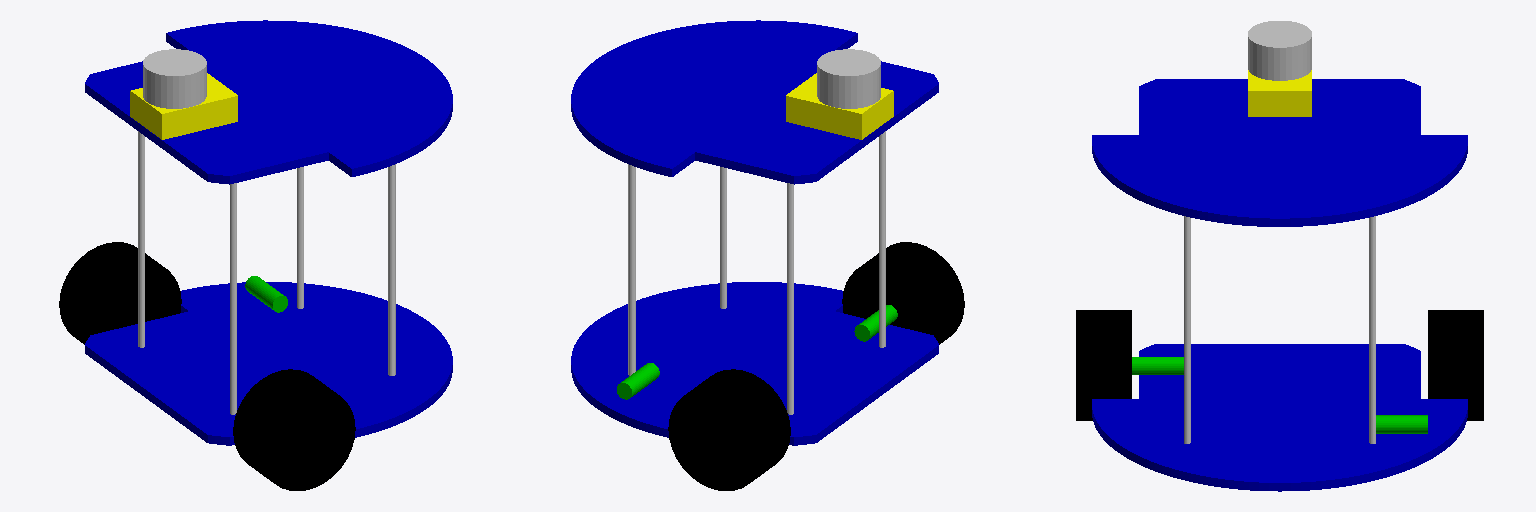
The robot description file, URDF, robot "myrobot":
<?xml version="1.0"?>
<robot name="myrobot">
  <material name="white">
    <color rgba="0.87 0.90 0.87 1.0"/>
  </material>
  <material name="black">
    <color rgba="0.0 0.0 0.0 1.0"/>
  </material>
  <material name="green">
    <color rgba="0.22 0.32 0.14 1.0"/>
  </material>
  <material name="Green">
    <color rgba="0.0 0.8 0.0 1.0"/>
  </material>
  <material name="OffWhite">
    <color rgba="0.8 0.8 0.8 1"/>
  </material>
  <material name="yellow">
     <color rgba="1 1 0 1"/>
  </material>

  <link name="base_link">
     <visual>
       <geometry>
          <!--<cylinder length="0.0042" radius="0.2" />-->
          <mesh filename="package://myrobot_gazebo/meshes/ROS.stl" scale="0.001016 0.001016 0.001016"/>
       </geometry>
       <material name="blue">
         <color rgba="0 0 0.8 1" />
       </material>
       <origin rpy="0 0 -1.57075" xyz="0 0 0 " />
     </visual>
  </link>
<!--This is added to the last 4 supports-->
  <link name="right_wheel">
     <visual>
       <geometry>
          <cylinder length="0.06" radius="0.06" />
       </geometry>
       <!--<origin rpy="1.57075 0 0" />-->
       <material name="black"/>
     </visual>
  </link>

   <joint name="right_wheel_joint" type="continuous">
      <parent link="base_link" />
      <child  link="right_wheel" />
       <axis xyz="0 0 1" />
      <origin rpy="0 1.57075 1.57075" xyz="-0.075 -0.19 0.02" />
      <!--<origin rpy="0 1.57057 0" xyz="0.19 0.075 0.02" />-->
   </joint>

   <link name="right_wheel_axis">
      <visual>
        <geometry>
           <cylinder length="0.06" radius="0.01" />
        </geometry>
        <material name="Green" />
      </visual>
   </link>

   <joint name="right_wheel_axis_joint" type="fixed">
      <parent link="base_link" />
      <child  link="right_wheel_axis" />
      <origin rpy="0 1.57075 1.57075" xyz="-0.075 -0.13 0.02" />
      <!--<origin rpy="0 1.57057 0" xyz="0.13 0.075 0.02" />-->
   </joint>

  <link name="left_wheel">
     <visual>
       <geometry>
          <cylinder length="0.06" radius="0.06" />
       </geometry>
        <!--<origin rpy="0 -1.57057 0" xyz="-0.19 0.075 0" />-->
       <material name="black" />
     </visual>
  </link>

  <joint name="left_wheel_joint" type="continuous">
      <parent link="base_link" />
      <child  link="left_wheel" />
      <axis xyz="0 0 1" />
      <!--<origin rpy="0 -1.57057 0" xyz="-0.19 0.075 0.02" />-->
      <origin rpy="0 -1.57075 1.57075" xyz="-0.075 0.19 0.02" />
  </joint>

  <link name="left_wheel_axis">
      <visual>
        <geometry>
           <cylinder length="0.06" radius="0.01" />
        </geometry>
        <material name="Green" />
      </visual>
  </link>

  <joint name="left_wheel_axis_joint" type="fixed">
      <parent link="base_link" />
      <child  link="left_wheel_axis" />
      <!--<origin rpy="0 -1.57057 0" xyz="-0.13 0.075 0.02" />-->
      <origin rpy="0 -1.57075 1.57075" xyz="0.075 0.13 0.02" />
  </joint>
<!--End-->

<!--This is added to the last 4 supports-->

  <link name="left_brace_front">
    <visual>
       <geometry>
          <cylinder length="0.32" radius="0.004" />
       </geometry>
       <material name="green">
          <color rgba=".86 .86 .86 1" />
       </material>
    </visual>
  </link>

  <joint name="left_brace_front_joint" type="fixed">
     <parent link="base_link" />
     <child  link="left_brace_front"/>
     <origin xyz="0.1 0.1 0.16" />
  </joint>

  <link name="left_brace_back">
    <visual>
       <geometry>
          <cylinder length="0.32" radius="0.004" />
       </geometry>
       <material name="green">
          <color rgba="0.86 0.86 0.86 1" />
       </material>
    </visual>
  </link>

  <joint name="left_brace_back_joint" type="fixed">
     <parent link="base_link" />
     <child  link="left_brace_back"/>
     <origin xyz="0.1 -0.1 0.16" />
  </joint>

  <link name="right_brace_front">
    <visual>
       <geometry>
          <cylinder length="0.32" radius="0.004" />
       </geometry>
       <material name="green">
          <color rgba=".86 .86 .86 1" />
       </material>
    </visual>
  </link>

  <joint name="right_brace_front_joint" type="fixed">
     <parent link="base_link" />
     <child  link="right_brace_front"/>
     <origin xyz="-0.1 0.1 0.16" />
  </joint>

  <link name="right_brace_back">
    <visual>
       <geometry>
          <cylinder length="0.32" radius="0.004" />
       </geometry>
       <material name="green">
          <color rgba=".86 .86 .86 1" />
       </material>
    </visual>
  </link>

  <joint name="right_brace_back_joint" type="fixed">
     <parent link="base_link" />
     <child  link="right_brace_back"/>
     <origin xyz="-0.1 -0.1 0.16" />
  </joint>
<!--End-->

<!--This is the rplidar-->
    <link name="rplidar">
       <visual>
         <geometry>
            <cylinder length="0.046" radius="0.035"/> 
         </geometry>
         <material name="OffWhite" />
       </visual>
    </link>

    <joint name="rplidar_joint" type="fixed">
       <parent link="rplidar_bottom" />
       <child  link="rplidar"/>
       <!--<origin xyz="0 0.012 0.033" />-->
       <origin rpy="0 0 1.57075" xyz="0 0.012 0.033" />
    </joint>

    <link name="rplidar_bottom">
      <visual>
         <geometry>
            <box size="0.07 0.096 0.033" />
         </geometry>
         <material name="yellow" />
      </visual>
    </link>
  
    <joint name="rplidar_bottom_joint" type="fixed">
       <parent link="base_link" />
       <child  link="rplidar_bottom" />
       <!--<origin  xyz="0 0.104 0.34" />-->
       <origin rpy="0 0 1.57075" xyz="-0.104 0 0.34" />
    </joint>
<!--End-->

</robot>

--- What the picture shows (computed from the rendered views, not written in the file) ---
3 views of the same robot in one strip: view 1: azimuth 30°, elevation 25°; view 2: azimuth 150°, elevation 25°; view 3: azimuth 270°, elevation 25° (orthographic).
Model myrobot with 11 links and 10 joints (2 continuous, 8 fixed), rooted at base_link, posed all joints at 0.
Links seen in each view (by area): view 1: base_link, right_wheel, left_wheel, rplidar_bottom, rplidar, left_brace_back, right_brace_back, right_brace_front, left_brace_front, left_wheel_axis; view 2: base_link, left_wheel, right_wheel, rplidar_bottom, rplidar, left_brace_front, right_brace_front, right_brace_back, left_brace_back, left_wheel_axis, right_wheel_axis; view 3: base_link, right_wheel, left_wheel, rplidar, rplidar_bottom, left_brace_front, left_brace_back, left_wheel_axis, right_wheel_axis.
Boxes of the visible links, x1=… form: base_link: x1=85, y1=20, x2=452, y2=445; right_wheel: x1=233, y1=369, x2=355, y2=490; left_wheel: x1=59, y1=242, x2=181, y2=344; rplidar_bottom: x1=130, y1=73, x2=237, y2=139; rplidar: x1=143, y1=49, x2=206, y2=108; left_brace_back: x1=388, y1=164, x2=395, y2=375; right_brace_back: x1=230, y1=183, x2=236, y2=414; right_brace_front: x1=138, y1=131, x2=144, y2=347; left_brace_front: x1=297, y1=167, x2=303, y2=308; left_wheel_axis: x1=245, y1=276, x2=287, y2=312; base_link: x1=571, y1=20, x2=938, y2=445; left_wheel: x1=668, y1=369, x2=790, y2=490; right_wheel: x1=842, y1=242, x2=964, y2=344; rplidar_bottom: x1=786, y1=73, x2=893, y2=139; rplidar: x1=817, y1=49, x2=880, y2=108; left_brace_front: x1=628, y1=164, x2=635, y2=375; right_brace_front: x1=787, y1=183, x2=793, y2=414; right_brace_back: x1=879, y1=131, x2=885, y2=347; left_brace_back: x1=720, y1=167, x2=726, y2=308; left_wheel_axis: x1=617, y1=363, x2=659, y2=399; right_wheel_axis: x1=854, y1=305, x2=897, y2=341; base_link: x1=1092, y1=79, x2=1467, y2=491; right_wheel: x1=1076, y1=310, x2=1131, y2=420; left_wheel: x1=1428, y1=310, x2=1483, y2=420; rplidar: x1=1248, y1=21, x2=1311, y2=80; rplidar_bottom: x1=1248, y1=70, x2=1311, y2=116; left_brace_front: x1=1369, y1=216, x2=1375, y2=443; left_brace_back: x1=1184, y1=216, x2=1190, y2=443; left_wheel_axis: x1=1376, y1=415, x2=1427, y2=433; right_wheel_axis: x1=1132, y1=357, x2=1183, y2=374.
Bounding box of the posed robot: 0.3556 × 0.44 × 0.436 m (x, y, z).
1 mesh visuals loaded from 1 distinct referenced files (1 binary STL).